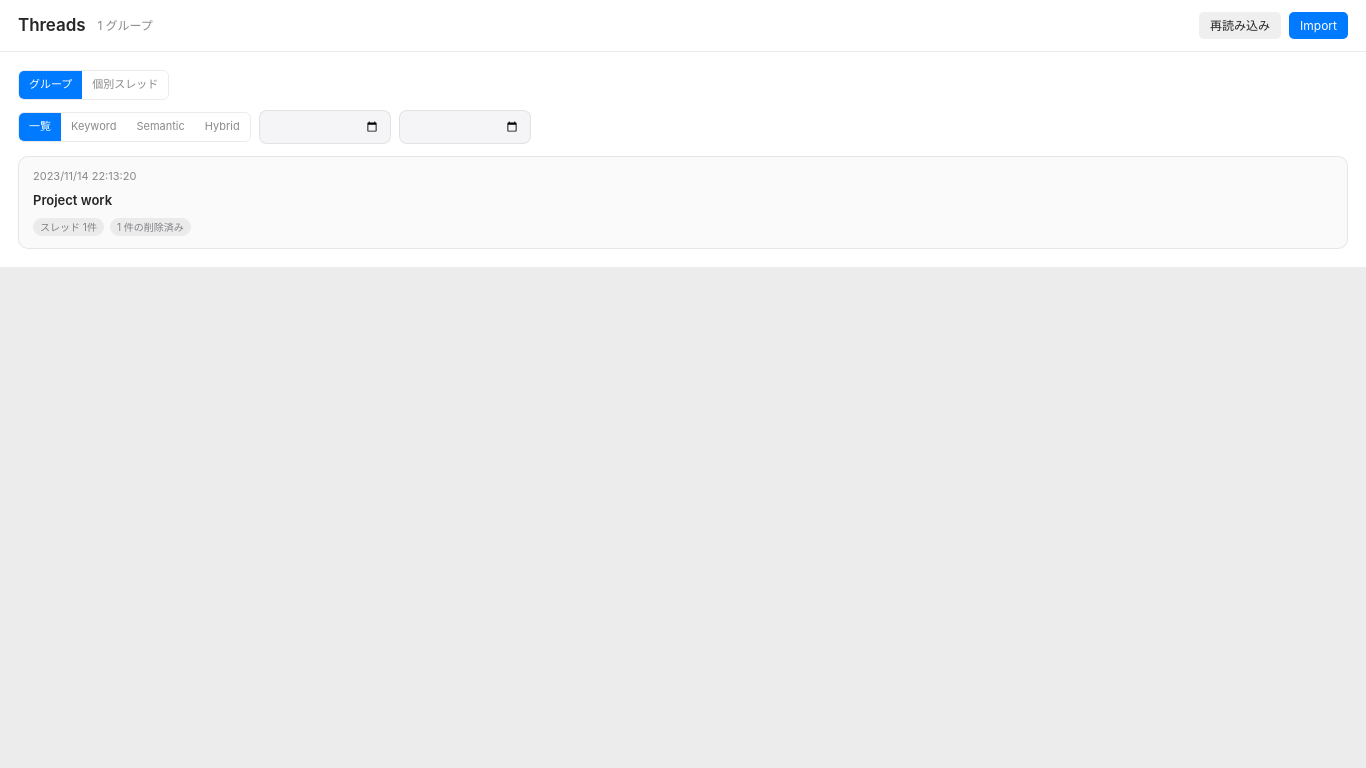
Test: Threads group view › shows and orders an inferred relation only for distinct live group members
Click the button "2023/11/14 22:13:20 Project work スレッド 1件 1 件の削除済み": (85, 176) [18,156,1348,249]
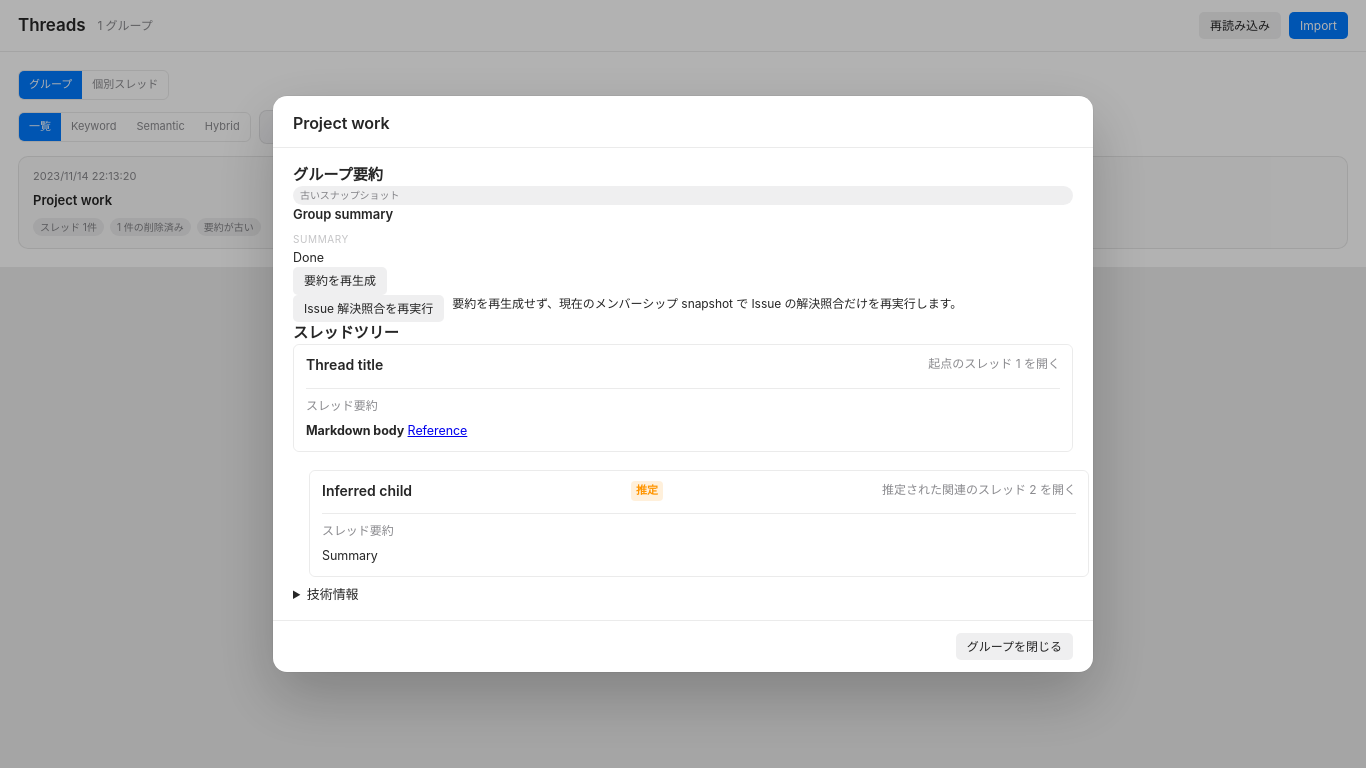
Now the button "Inferred child 推定 推定された関連のスレッド 2 を開く" is shown, box [322,480,1076,505]
